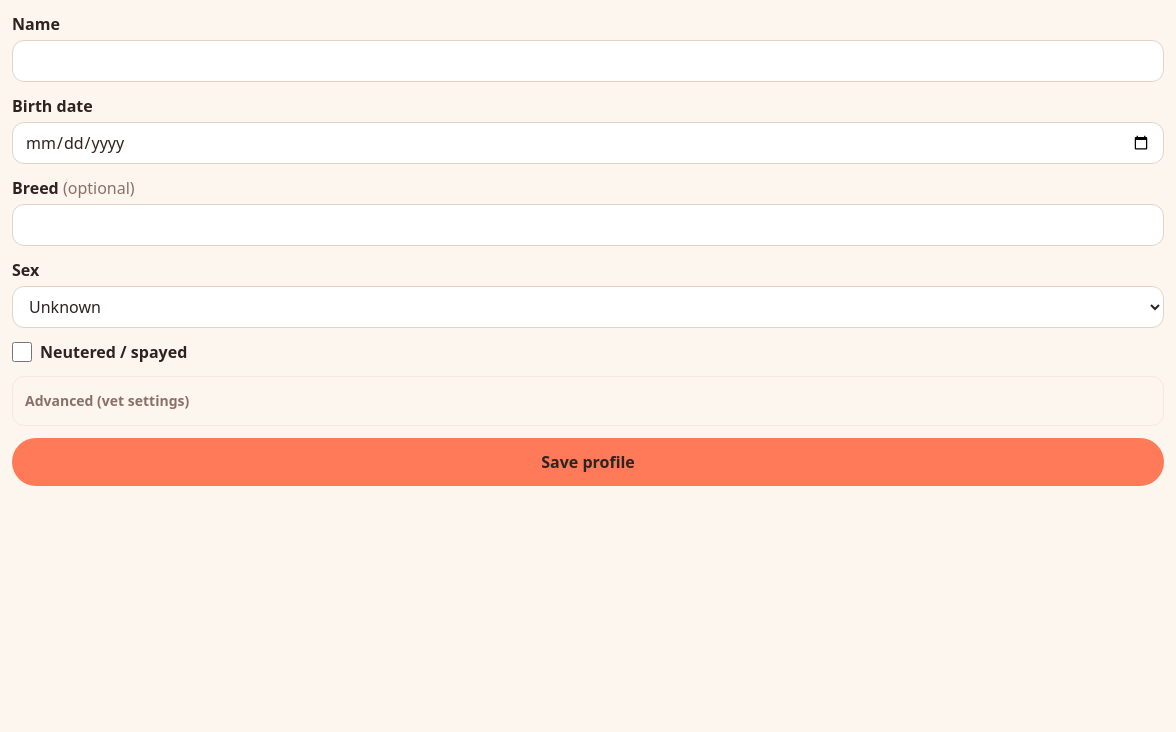
Test case: CatForm › shows an alert and keeps the values when the save rejects
This screenshot has width=1176, height=732.
Type "Mango" into the field with test id "cat-name". click: (588, 61)
box: x1=12 y1=40 x2=1164 y2=82
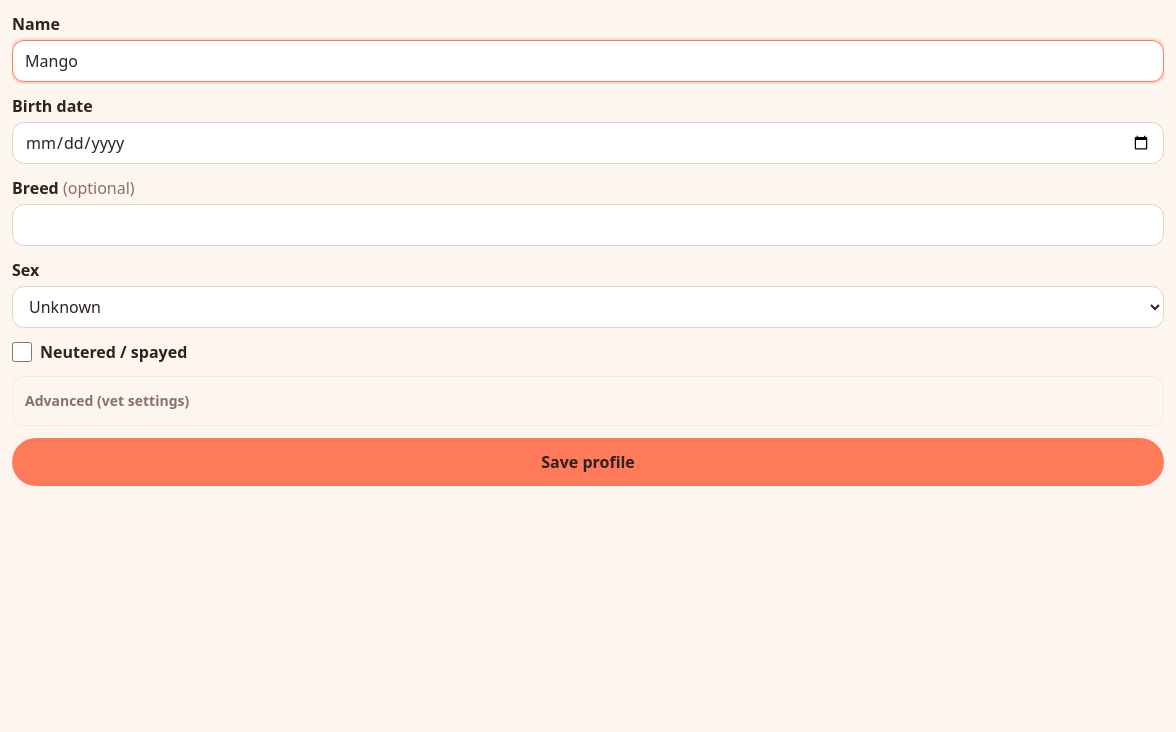
Type "2025-04-10" into the date field with test id "cat-birthdate". click: (588, 143)
box: x1=12 y1=122 x2=1164 y2=164
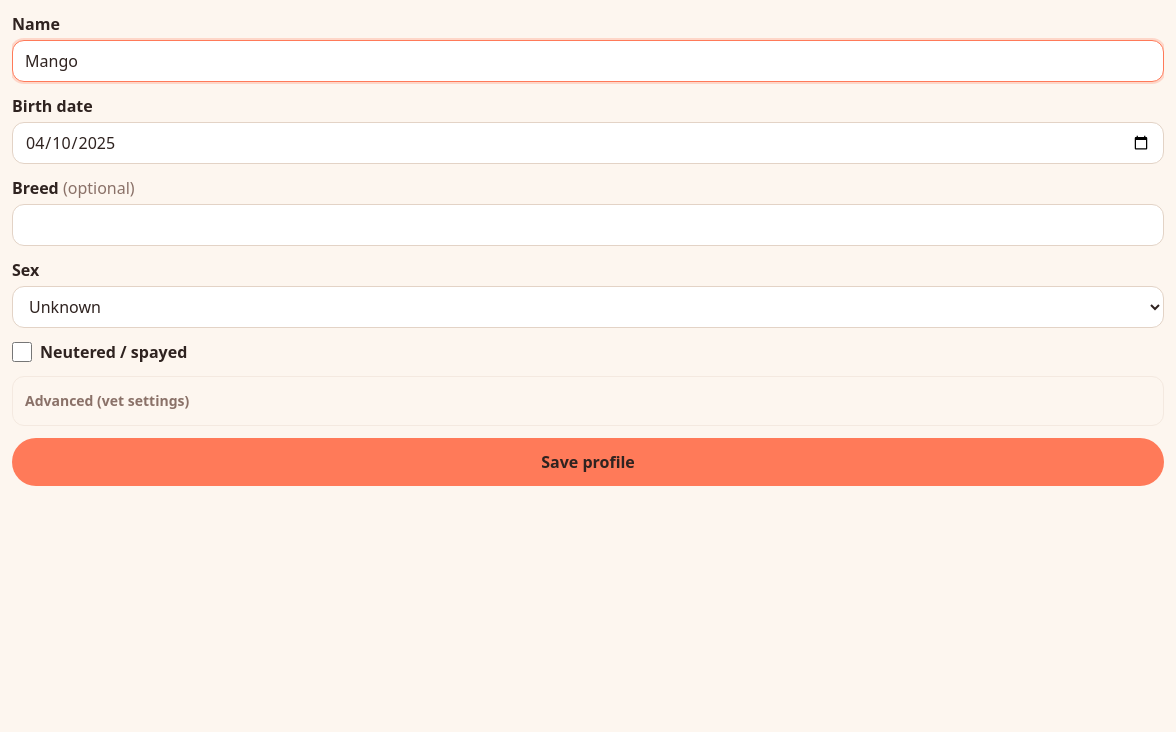
Click the button with test id "cat-save". click: click(588, 462)
box: x1=12 y1=438 x2=1164 y2=486
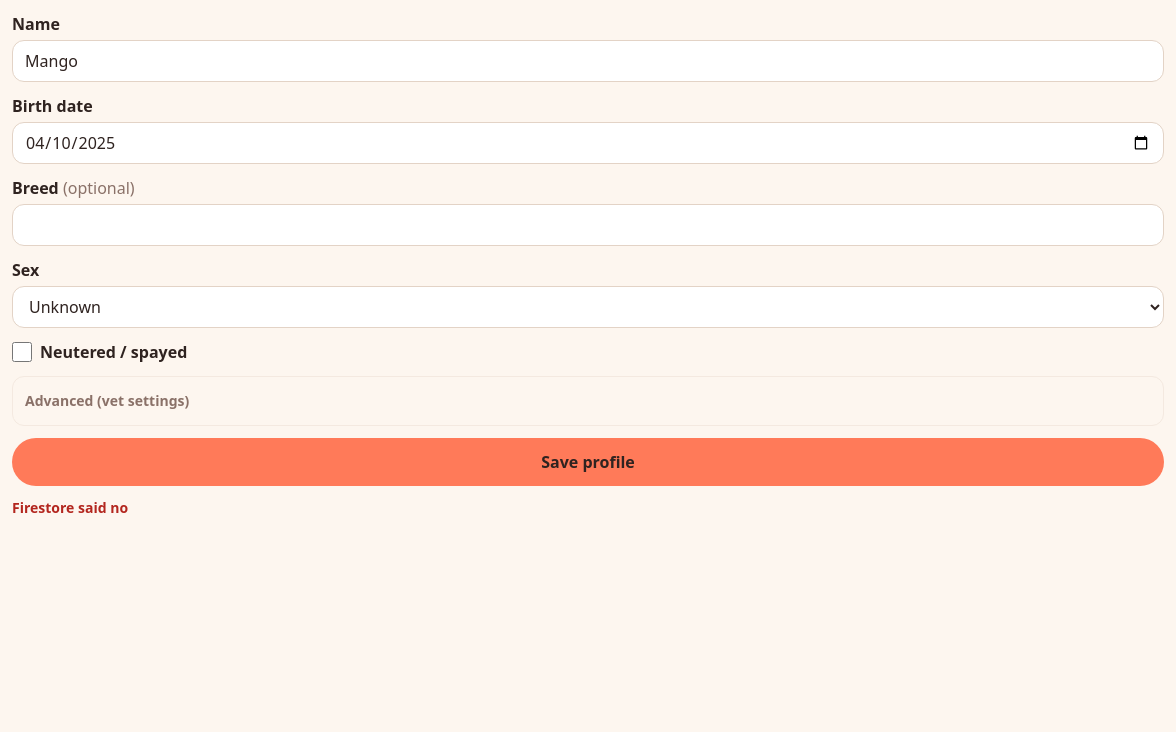
Expected: the message reads "Firestore said no", x1=12 y1=498 x2=128 y2=517
